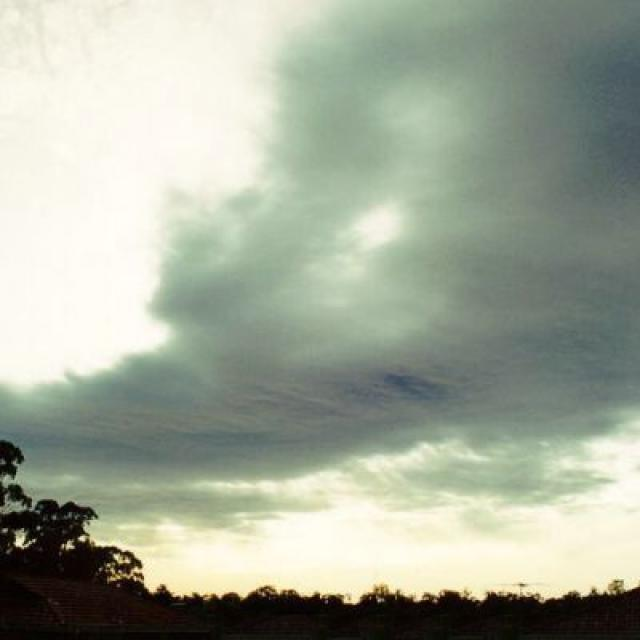St: (10, 40, 640, 447)
